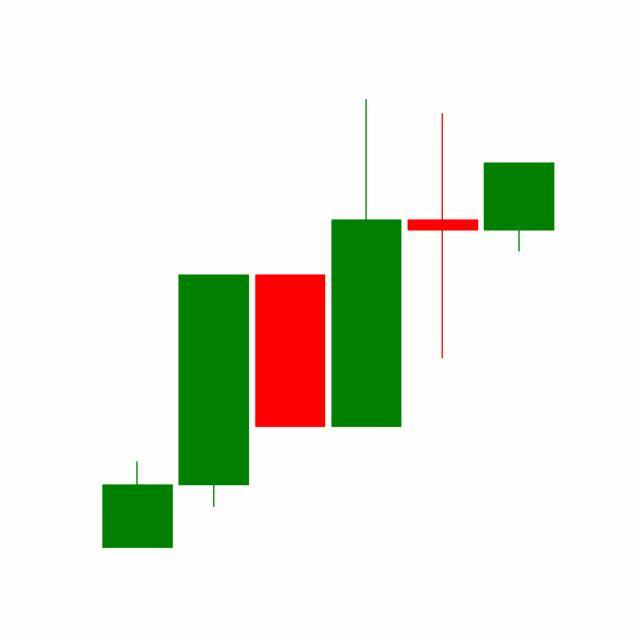Spinning Top: (404, 110, 482, 362)
